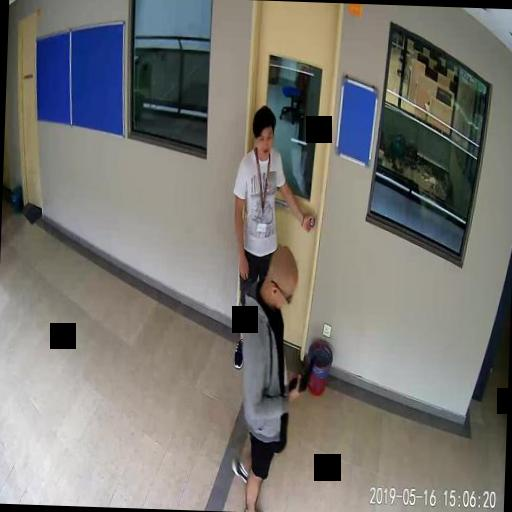Handgun: (286, 353, 314, 394)
